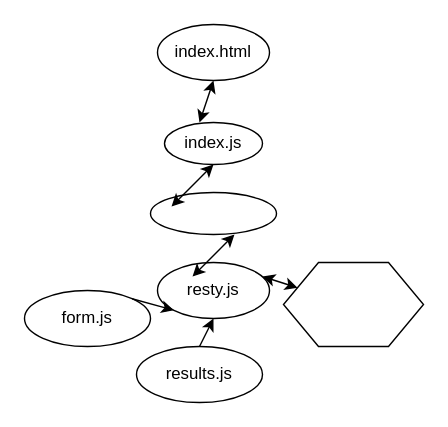
This 448x427 diagram has some shape labels left out. The shapes that lost their labels are listed below. From the top down, each one's centre as x and y in pixels, then its label:
At point (212, 212): "app.js".
At point (353, 303): "randomAPI".
